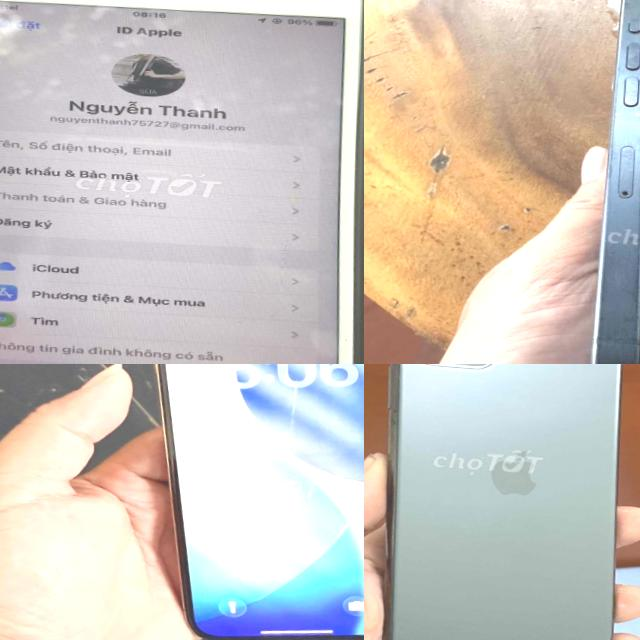scratch: (595, 254, 640, 331), (609, 99, 640, 136)
